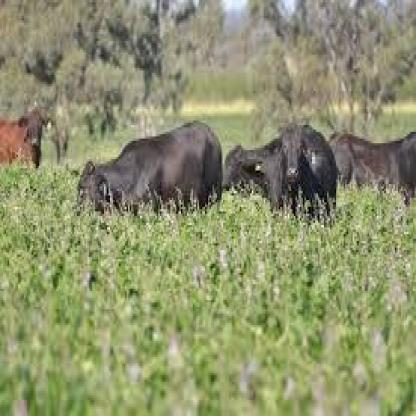cow: (76, 120, 222, 212), (268, 119, 336, 215), (334, 129, 416, 193), (221, 136, 282, 193), (0, 107, 56, 168)
